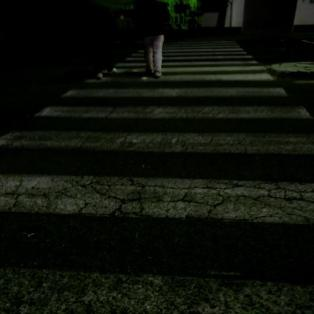Paso de Cebra: (31, 85, 313, 125), (113, 53, 261, 69)
